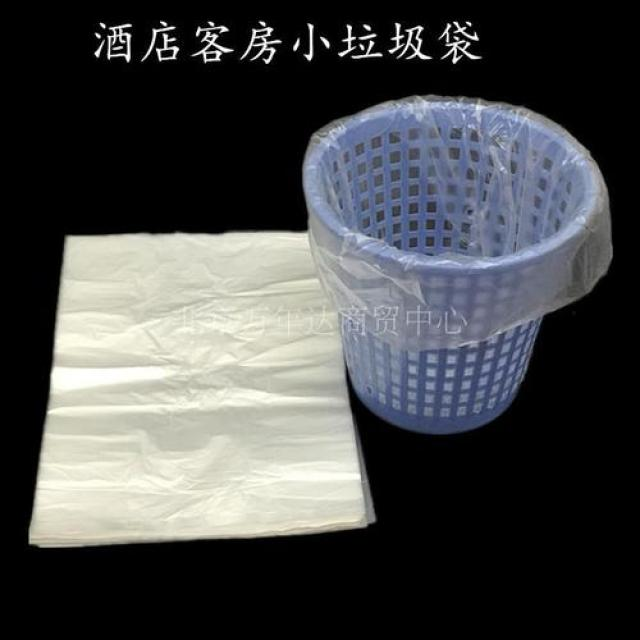dustbin: (296, 84, 612, 442)
